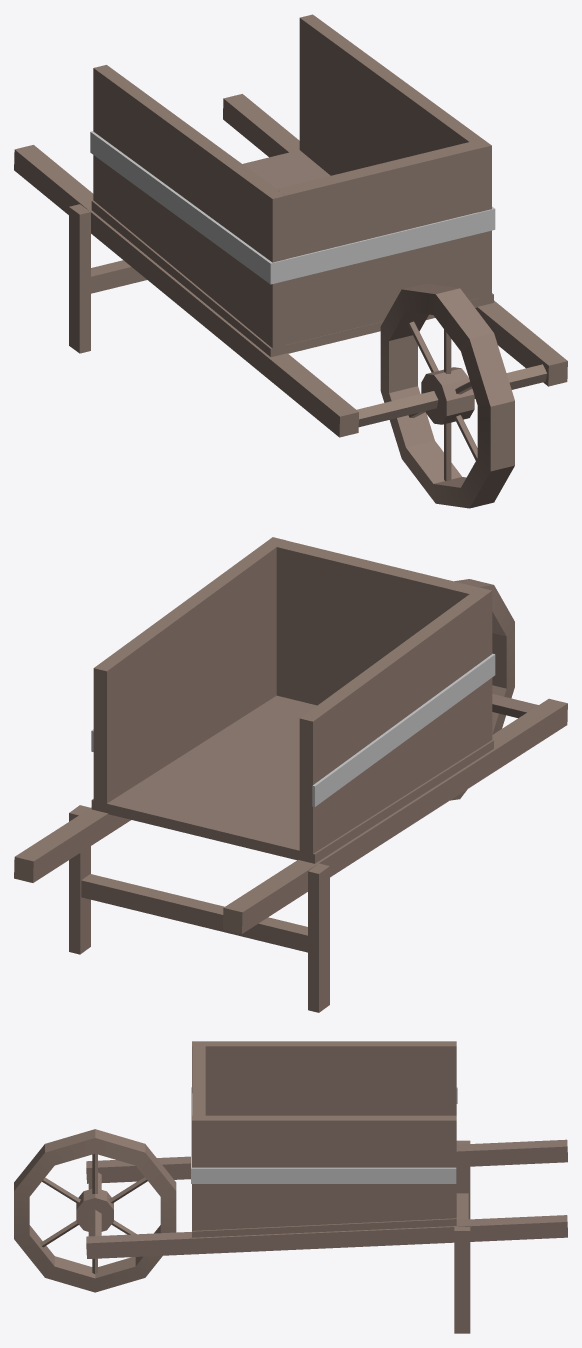
Rendered from Carroca.fbx.
3 renders of one model, top to bottom at view 1: azimuth 30°, elevation 25°; view 2: azimuth 150°, elevation 25°; view 3: azimuth 270°, elevation 25°, orthographic. The views are drawn at different scales.
Parts seen in each view (by area): view 1: CarrocaArmazenamento, RodaApoio, CarrocaAcessorio, RodaDentro, SeguraRoda; view 2: CarrocaArmazenamento, RodaApoio, CarrocaAcessorio, SeguraRoda; view 3: CarrocaArmazenamento, RodaApoio, CarrocaAcessorio, RodaDentro, SeguraRoda.
Boxes of the visible parts, x1=… form: CarrocaArmazenamento: x1=91, y1=14, x2=493, y2=356; RodaApoio: x1=14, y1=94, x2=567, y2=508; CarrocaAcessorio: x1=90, y1=131, x2=495, y2=284; RodaDentro: x1=408, y1=321, x2=477, y2=481; SeguraRoda: x1=356, y1=364, x2=547, y2=427; CarrocaArmazenamento: x1=91, y1=537, x2=493, y2=863; RodaApoio: x1=14, y1=579, x2=567, y2=1012; CarrocaAcessorio: x1=91, y1=653, x2=495, y2=806; SeguraRoda: x1=492, y1=694, x2=538, y2=718; CarrocaArmazenamento: x1=192, y1=1041, x2=456, y2=1237; RodaApoio: x1=14, y1=1129, x2=567, y2=1333; CarrocaAcessorio: x1=191, y1=1087, x2=457, y2=1183; RodaDentro: x1=40, y1=1153, x2=147, y2=1274; SeguraRoda: x1=88, y1=1172, x2=101, y2=1236.
Bounding box in the file's own units: 0.5985 × 0.6422 × 1.55.
